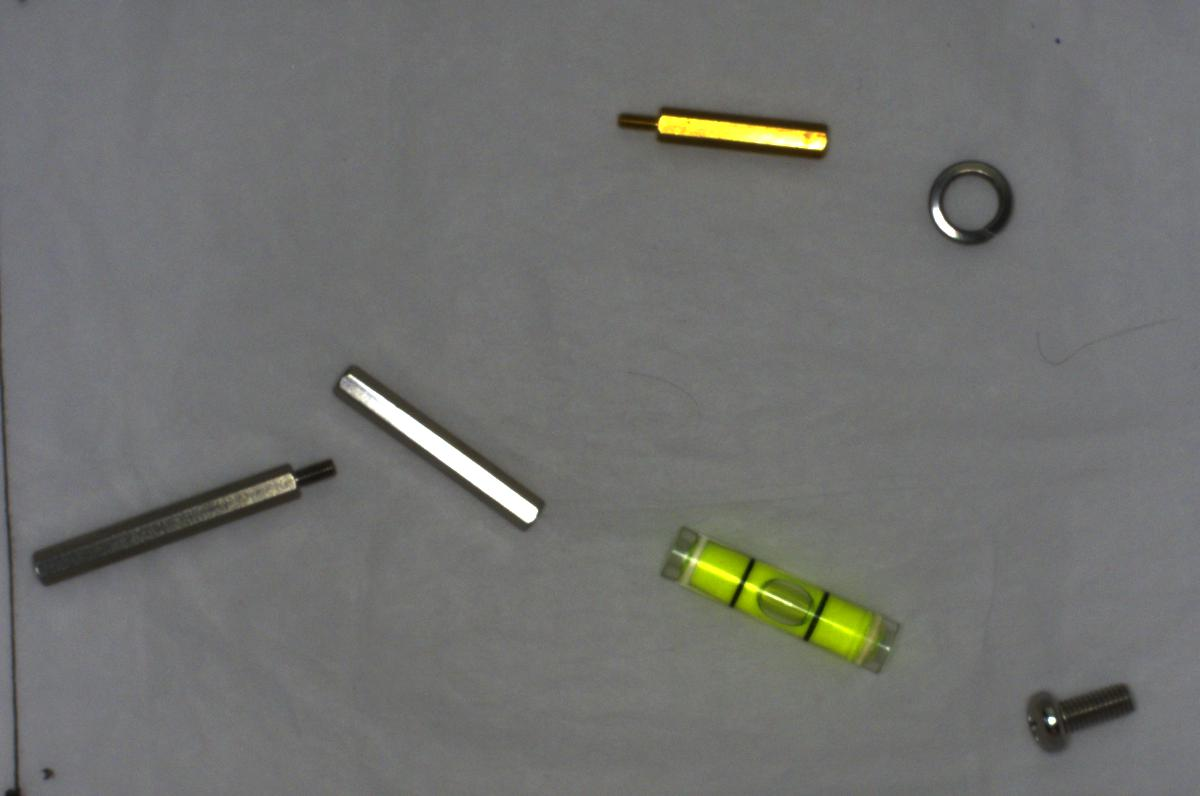Double hexagonal column: (332, 361, 542, 533)
Hexagon pillar: (613, 94, 834, 170)
Hexagonal steel column: (20, 448, 344, 593)
Horizontal bubble: (652, 518, 905, 676)
Round head screw: (1018, 665, 1140, 756)
Spring washer: (921, 154, 1019, 252)
